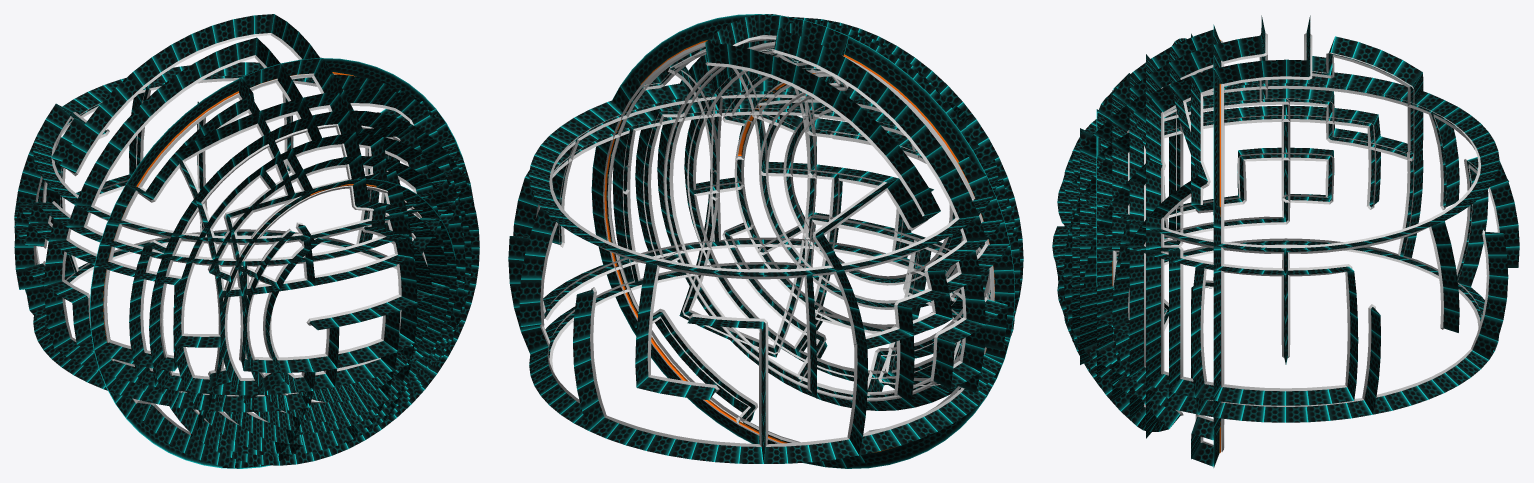
The picture shows the model from 3 angles, left to right: view 1: azimuth 30°, elevation 25°; view 2: azimuth 150°, elevation 25°; view 3: azimuth 270°, elevation 25°; orthographic projection. The views are drawn at different scales.
Parts seen in each view (by area): view 1: Sc01; view 2: Sc01; view 3: Sc01.
Boxes of the visible parts, x1,y1,x2,y2 form: Sc01: (14,14,479,468); Sc01: (508,14,1023,468); Sc01: (1052,15,1519,467).
Bounding box in the file's own units: 220 × 214 × 220.
Materials: 3 (1 with a texture image).
